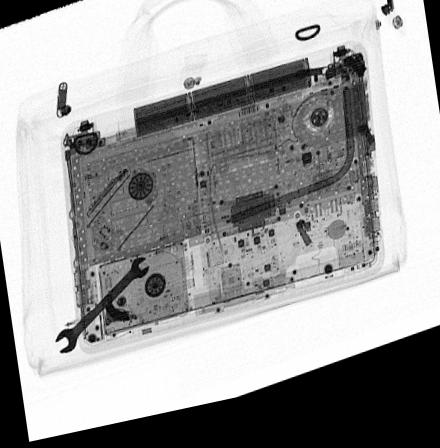Wrench: (55, 259, 151, 357)
